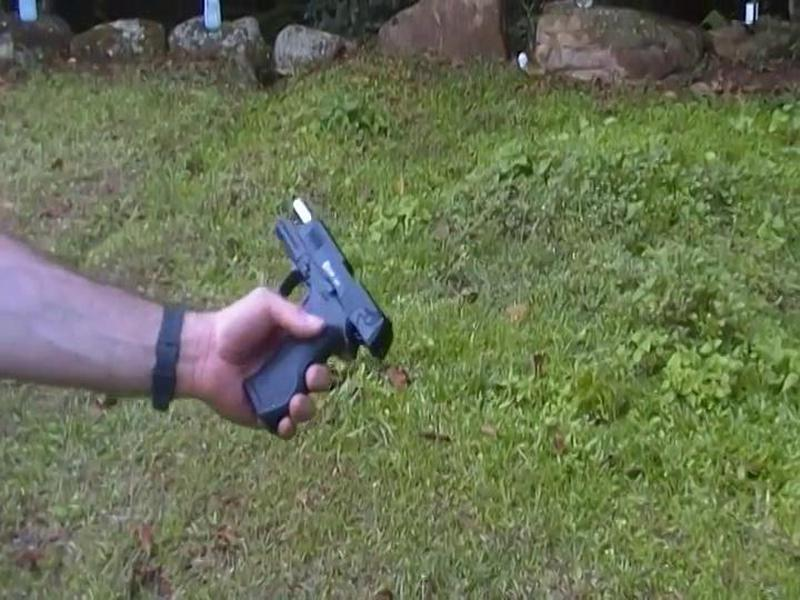Pistola: (238, 182, 393, 435)
